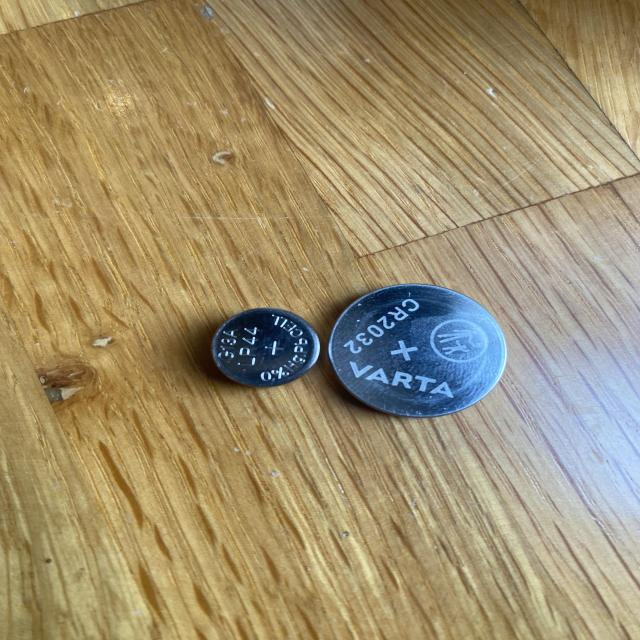COIN: (327, 282, 507, 418), (210, 306, 320, 387)
